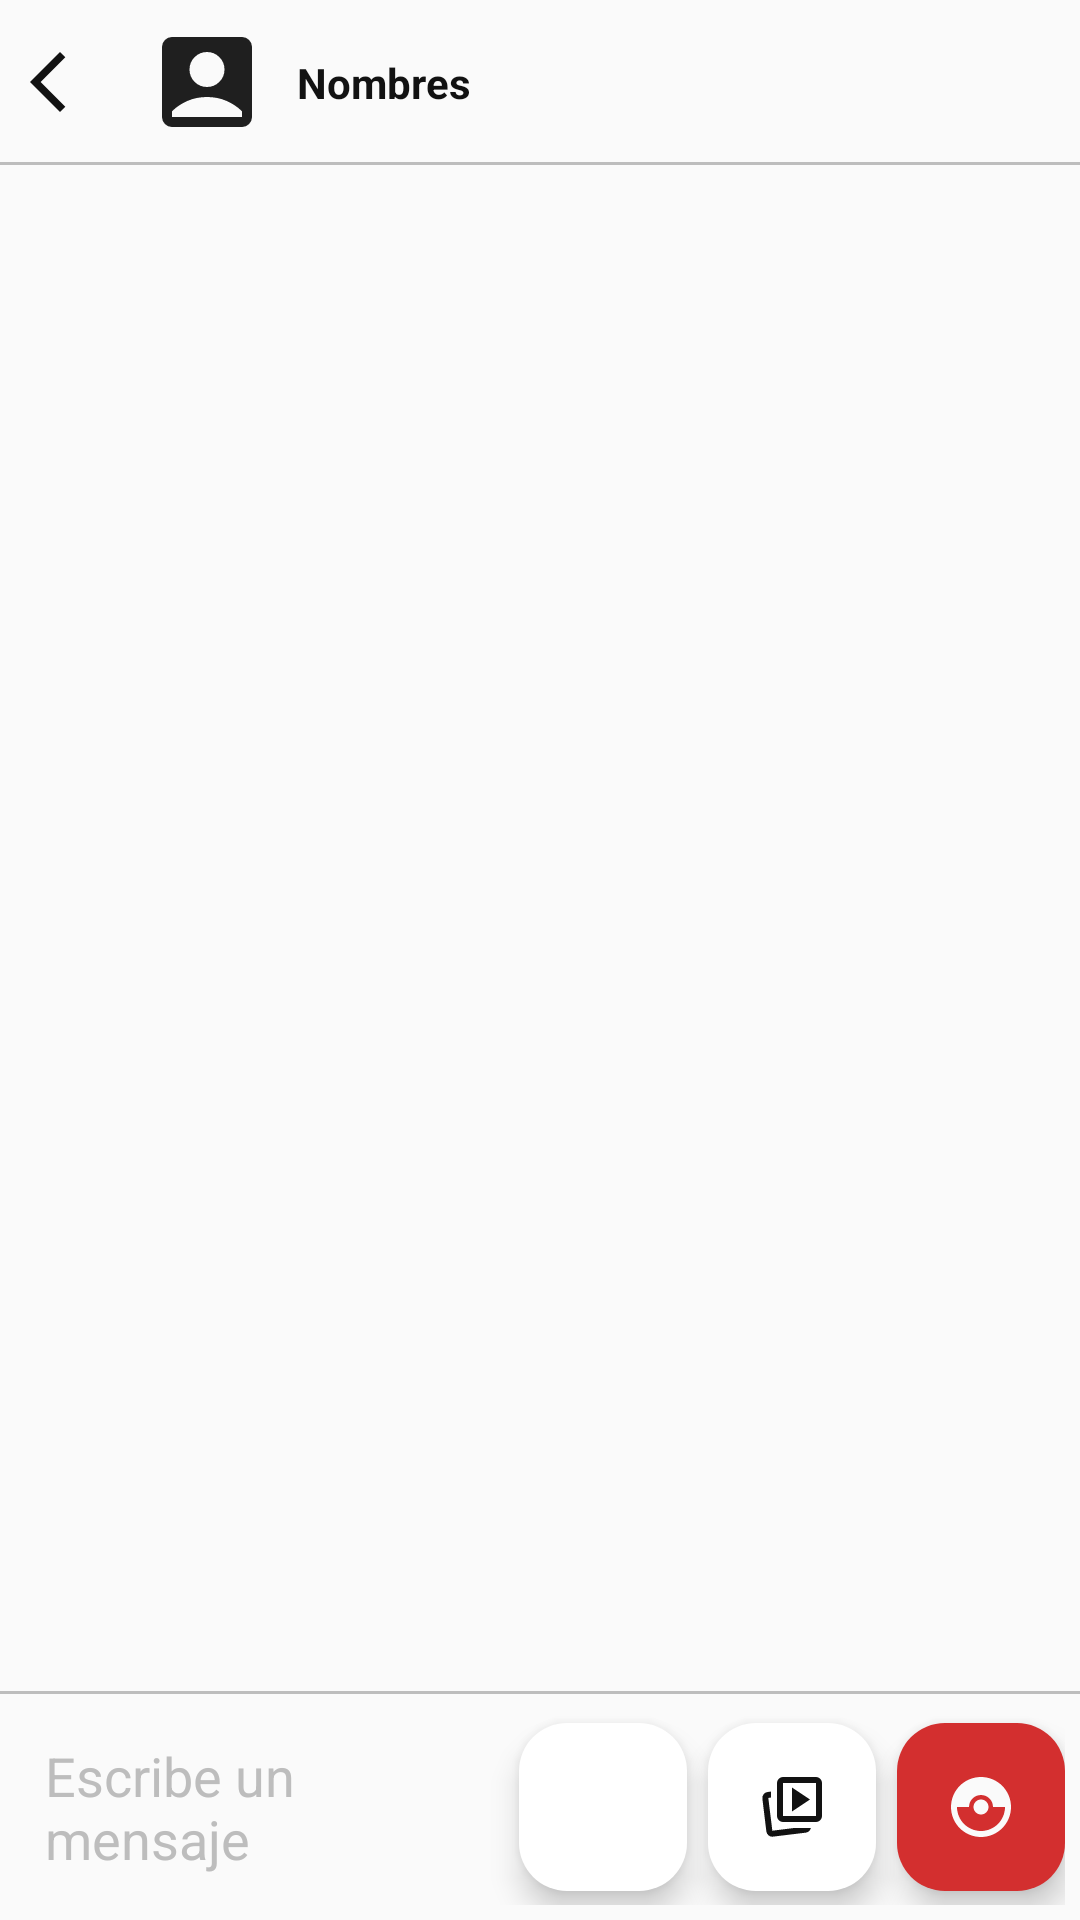

Screen size 1080px×1920px. Icon name, then its box in pixels as (x1, y1, x2, y2):
perfil: (162, 37, 252, 127)
regresar: (30, 52, 65, 112)
selec: (708, 1723, 876, 1891)
